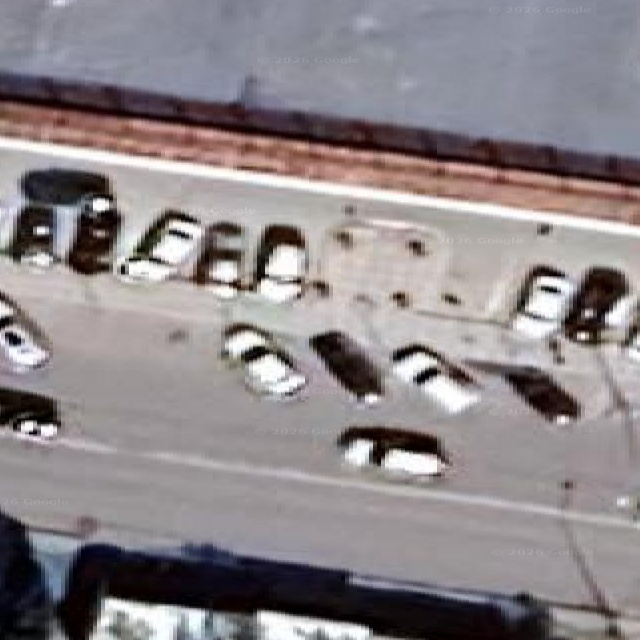car: (55, 542, 559, 639), (20, 167, 119, 272), (0, 506, 60, 639), (464, 360, 579, 424), (220, 324, 306, 397), (116, 209, 203, 280), (392, 343, 479, 412), (336, 426, 449, 479), (308, 329, 383, 404), (564, 267, 632, 344), (511, 267, 575, 339), (504, 366, 580, 424), (67, 196, 120, 273), (255, 224, 307, 301), (194, 221, 243, 299), (0, 295, 48, 371), (20, 167, 111, 207), (256, 611, 369, 639), (0, 387, 60, 439), (9, 204, 55, 267), (220, 323, 270, 360), (624, 304, 639, 362), (615, 493, 639, 522), (624, 324, 639, 362), (108, 615, 120, 620), (119, 624, 124, 627), (52, 238, 56, 240), (111, 624, 114, 626), (163, 624, 164, 628), (232, 633, 235, 634)
